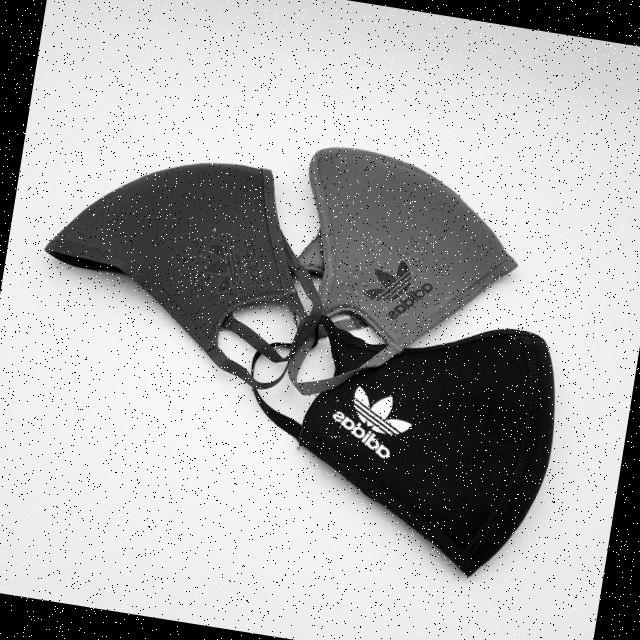Adidas: (324, 372, 437, 455), (344, 233, 427, 318), (175, 226, 255, 306)
